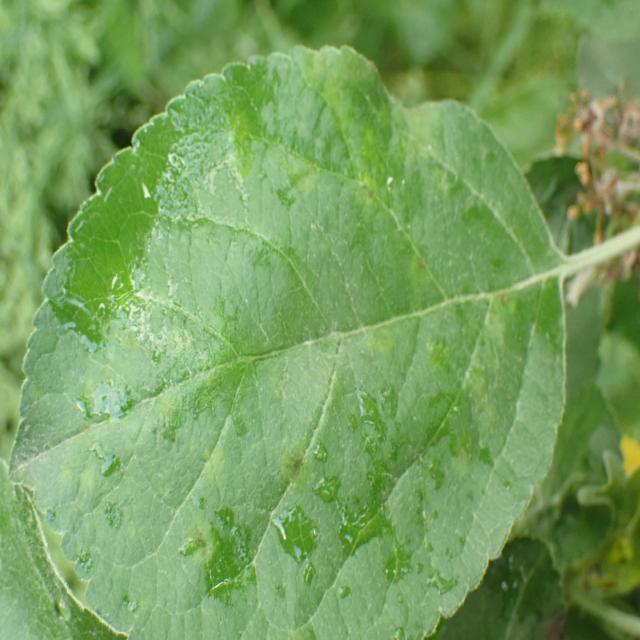scab: (42, 69, 558, 614)
